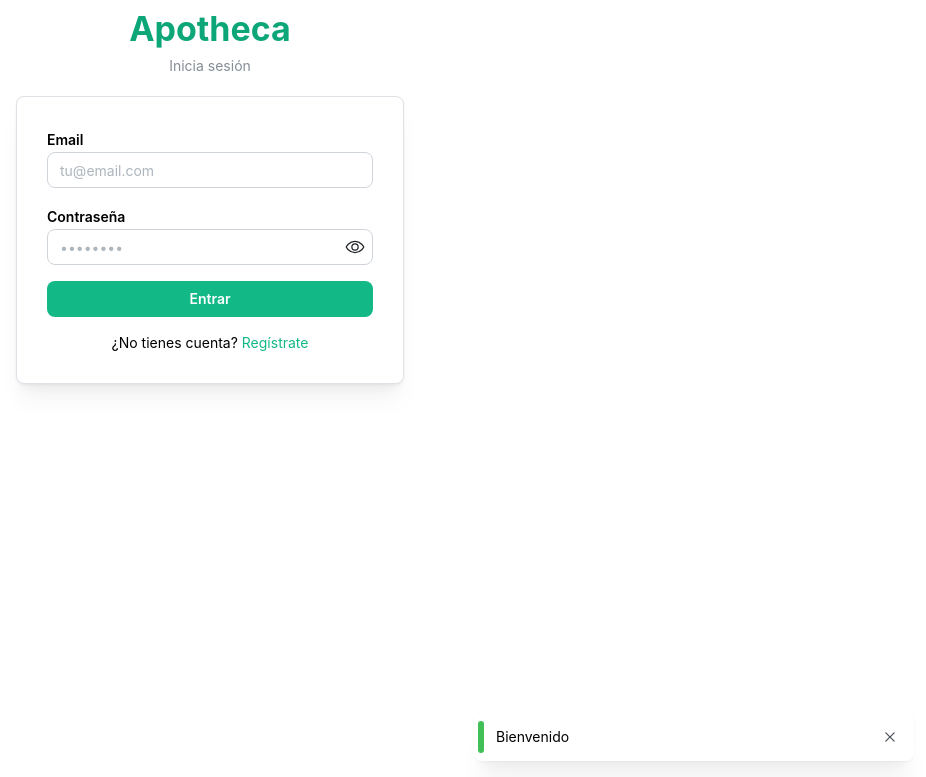
Test: AuthPage › shows error on wrong credentials
This screenshot has width=926, height=777.
Type "wrong@example.com" into the field with placeholder "tu@email.com" at (210, 170), box [47,152,373,188]
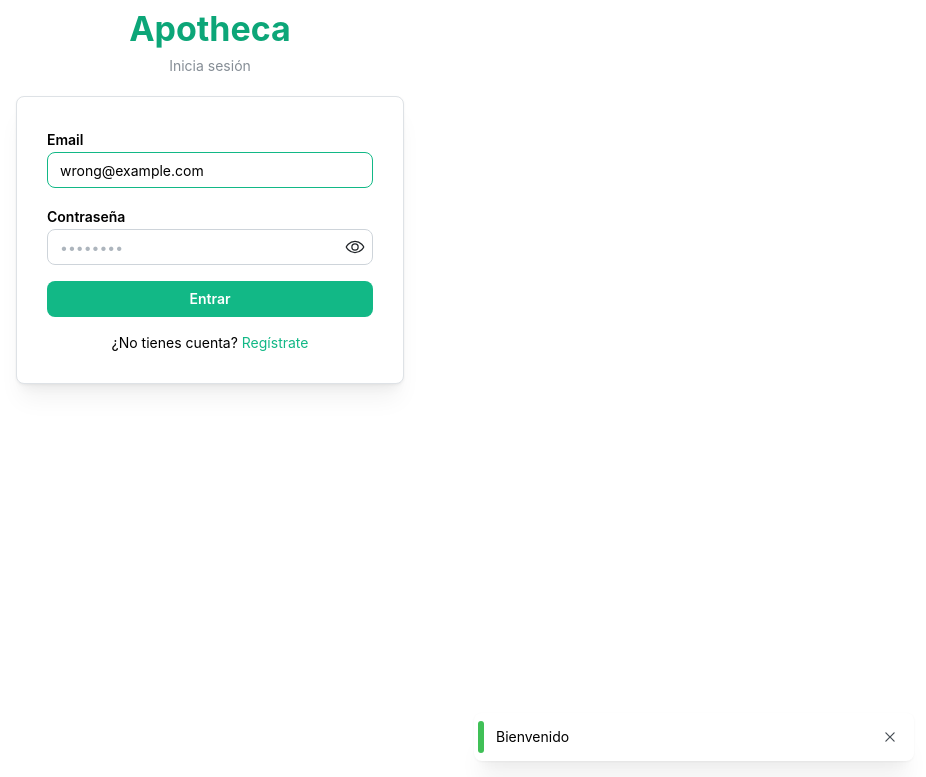
Type "wrongpassword" into the password field with placeholder "••••••••" at (210, 247), box [48,230,372,264]
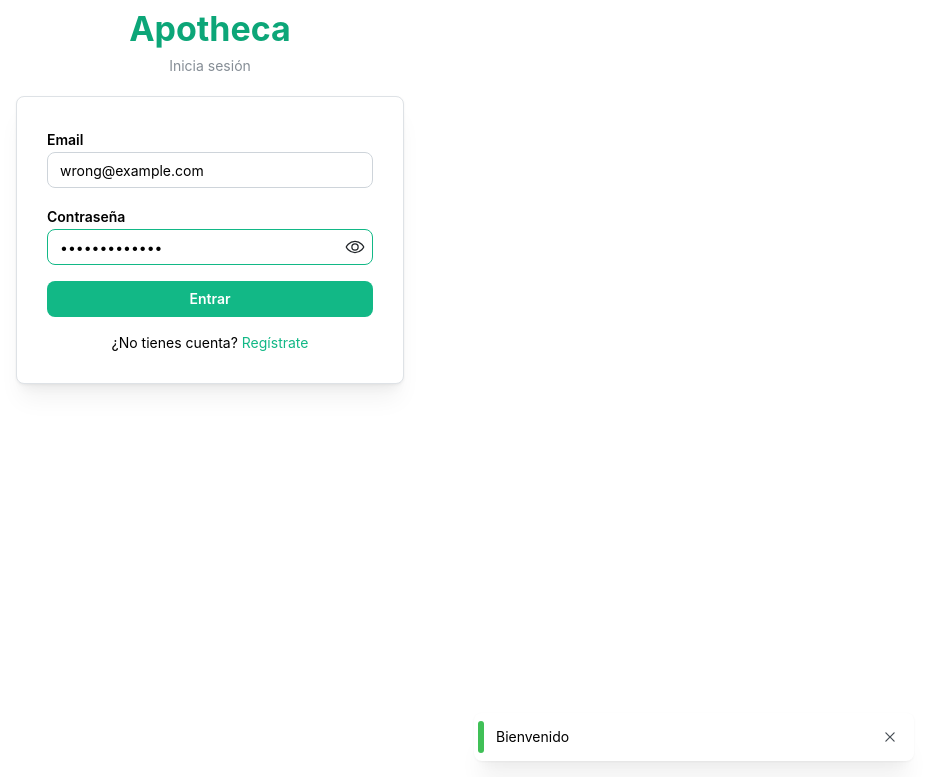
Click the button "Entrar" at (210, 299), box [47,281,373,317]
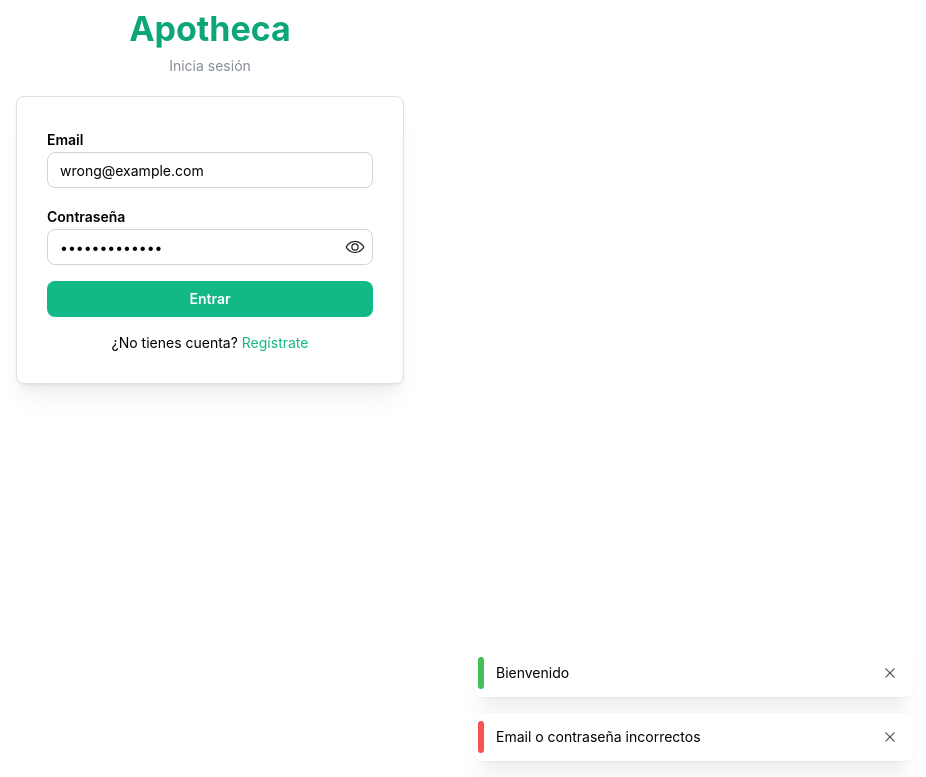
Check: the text "Email o contraseña incorrectos" is shown, box [496,728,701,745]
